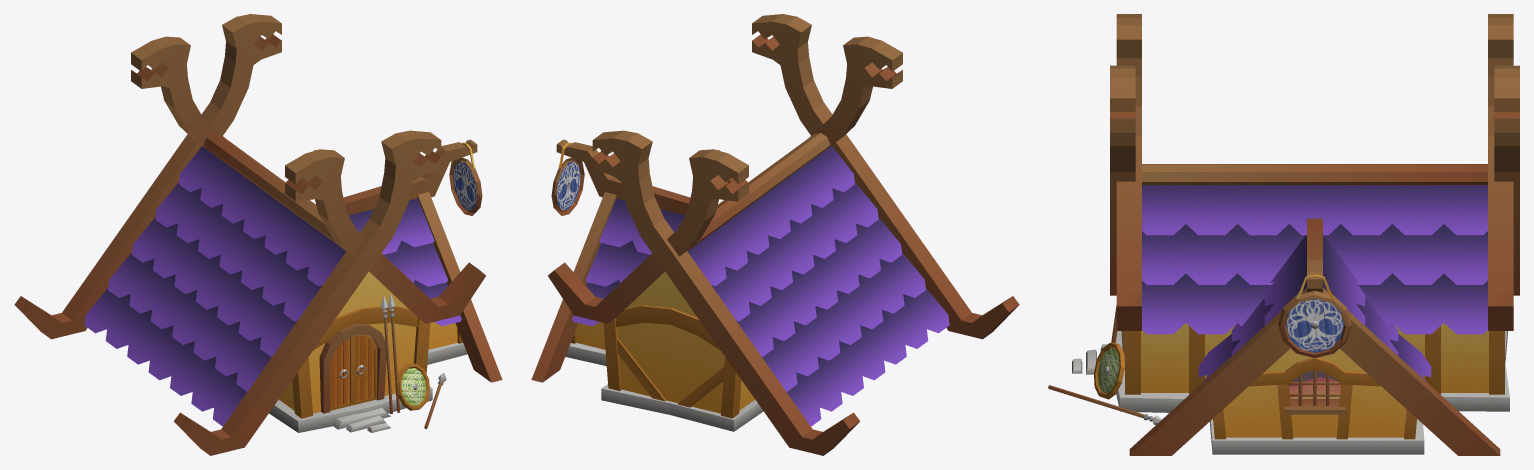
Rendered from VikingHouse_03_XXL.fbx.
The picture shows the model from 3 angles, left to right: view 1: azimuth 30°, elevation 25°; view 2: azimuth 150°, elevation 25°; view 3: azimuth 270°, elevation 25°; orthographic projection. The views are drawn at different scales.
Parts seen in each view (by area): view 1: VikingHouse_03_XXL; view 2: VikingHouse_03_XXL; view 3: VikingHouse_03_XXL.
Part boxes in pixels (x1,y1,x2,y2): VikingHouse_03_XXL: (14,14,502,455); VikingHouse_03_XXL: (531,14,1019,455); VikingHouse_03_XXL: (1048,14,1519,455).
Size of the model in its own units: 407 by 281 by 368.
